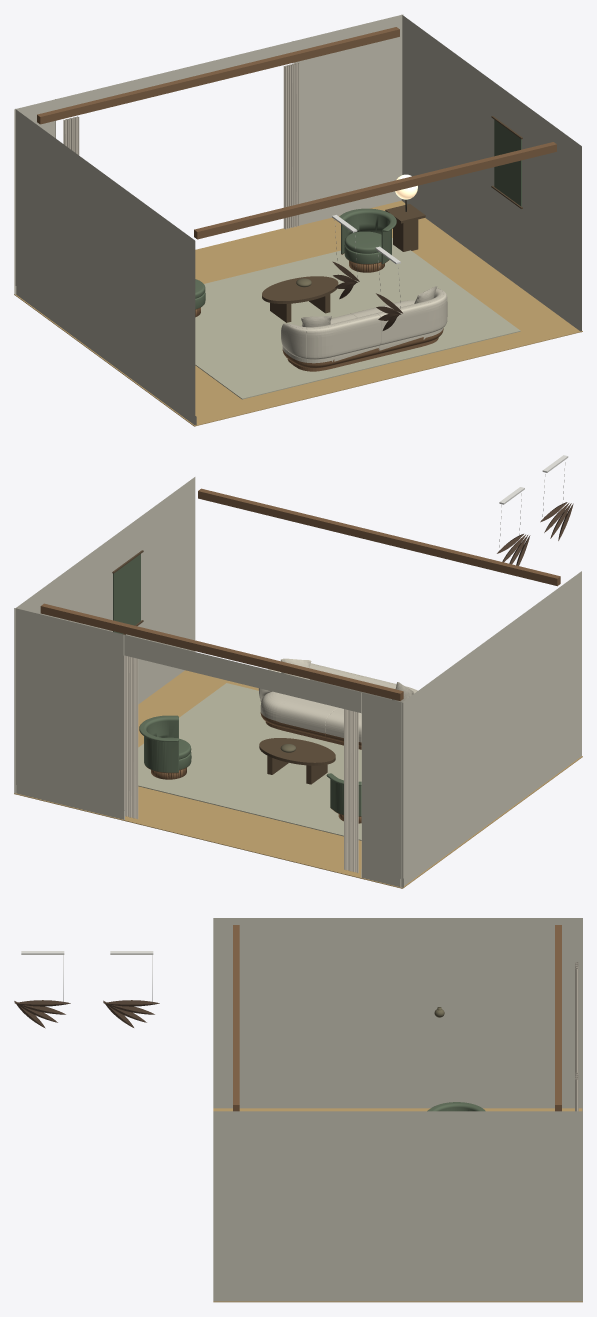
Rendered from great-2.glb.
3 views of the same model, one above another, from view 1: azimuth 30°, elevation 25°; view 2: azimuth 150°, elevation 25°; view 3: azimuth 270°, elevation 25° (orthographic). The views are drawn at different scales.
Parts seen in each view (by area): view 1: DESIGN | great removable wall finish, DESIGN | Great room primary ground, DESIGN | great floor finish, DESIGN | Great room sofa facing conversation, DESIGN | Garden salon perimeter timber.001, DESIGN | Garden salon perimeter timber, DESIGN | Required Bellustar swivel chair two, DESIGN | Great room soft window edge.001, DESIGN | Great room linen hanging, DESIGN | R7 low conversation table, DESIGN | Side reading perch base, DESIGN | Great room soft window edge; view 2: DESIGN | great removable wall finish, DESIGN | Great room primary ground, DESIGN | great floor finish, DESIGN | Great room sofa facing conversation, DESIGN | Garden salon perimeter timber.001, DESIGN | Garden salon perimeter timber, DESIGN | Required Bellustar swivel chair two, DESIGN | Great room soft window edge, DESIGN | Great room soft window edge.001, DESIGN | Great room linen hanging, DESIGN | R7 low conversation table, DESIGN | Required Bellustar swivel chair one (+1 smaller); view 3: DESIGN | great removable wall finish, DESIGN | great floor finish, DESIGN | Garden salon perimeter timber, DESIGN | Garden salon perimeter timber.001, DESIGN | Required Flou pendant 2, DESIGN | Required Flou pendant 1.
Part boxes in pixels (left/top/right/bottom): DESIGN | great removable wall finish: left=14, top=14, right=581, bottom=425; DESIGN | Great room primary ground: left=195, top=238, right=520, bottom=399; DESIGN | great floor finish: left=14, top=200, right=582, bottom=426; DESIGN | Great room sofa facing conversation: left=281, top=286, right=447, bottom=371; DESIGN | Garden salon perimeter timber.001: left=37, top=27, right=399, bottom=124; DESIGN | Garden salon perimeter timber: left=194, top=142, right=556, bottom=239; DESIGN | Required Bellustar swivel chair two: left=339, top=208, right=396, bottom=272; DESIGN | Great room soft window edge.001: left=283, top=62, right=299, bottom=229; DESIGN | Great room linen hanging: left=494, top=120, right=521, bottom=206; DESIGN | R7 low conversation table: left=262, top=276, right=338, bottom=303; DESIGN | Side reading perch base: left=393, top=219, right=418, bottom=251; DESIGN | Great room soft window edge: left=63, top=116, right=79, bottom=155; DESIGN | great removable wall finish: left=14, top=477, right=581, bottom=887; DESIGN | Great room primary ground: left=138, top=683, right=361, bottom=840; DESIGN | great floor finish: left=14, top=670, right=582, bottom=888; DESIGN | Great room sofa facing conversation: left=258, top=658, right=417, bottom=749; DESIGN | Garden salon perimeter timber.001: left=40, top=603, right=403, bottom=700; DESIGN | Garden salon perimeter timber: left=198, top=488, right=560, bottom=586; DESIGN | Required Bellustar swivel chair two: left=139, top=715, right=191, bottom=779; DESIGN | Great room soft window edge: left=344, top=709, right=358, bottom=873; DESIGN | Great room soft window edge.001: left=124, top=655, right=138, bottom=819; DESIGN | Great room linen hanging: left=113, top=554, right=140, bottom=634; DESIGN | R7 low conversation table: left=259, top=738, right=335, bottom=765; DESIGN | Required Bellustar swivel chair one: left=326, top=773, right=361, bottom=823; DESIGN | great removable wall finish: left=213, top=918, right=582, bottom=1301; DESIGN | great floor finish: left=213, top=1108, right=582, bottom=1302; DESIGN | Garden salon perimeter timber: left=233, top=925, right=239, bottom=1111; DESIGN | Garden salon perimeter timber.001: left=555, top=925, right=561, bottom=1111; DESIGN | Required Flou pendant 2: left=103, top=1000, right=159, bottom=1027; DESIGN | Required Flou pendant 1: left=14, top=1000, right=70, bottom=1028.
Bounding box in the file's own units: 6 × 3.04 × 7.42.
